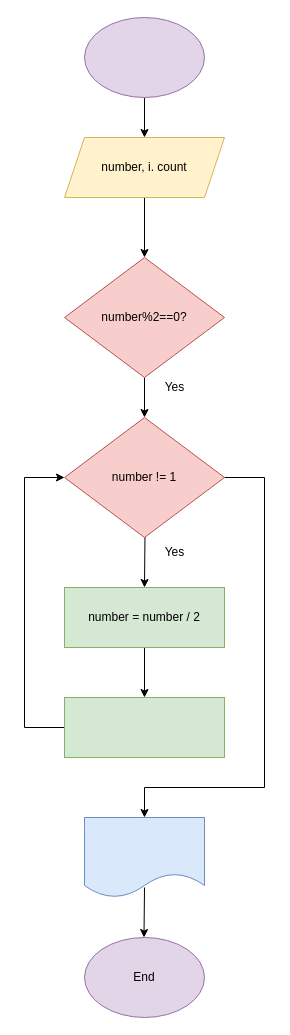
Image size: 290x1035. Some labels were removed from this diagram. Here are the shapes that lost their labels. From the top down, the centre of each, then its label:
the point at 144,57: Start
the point at 144,727: count = count + 1
the point at 144,857: count
